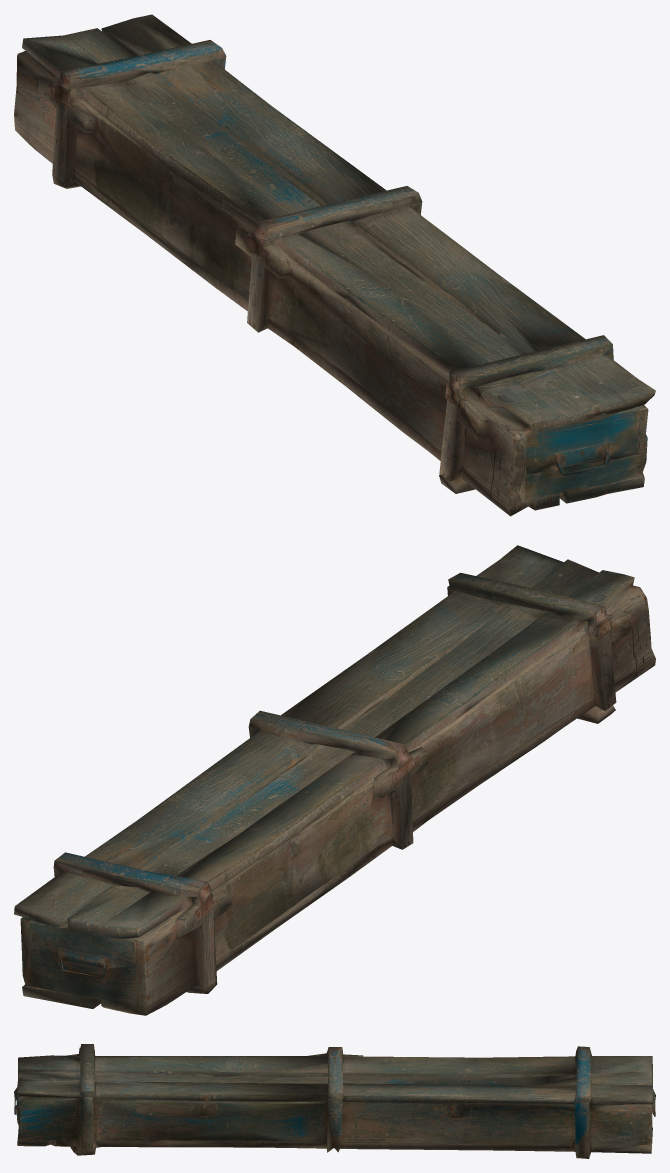
The model's file is SM_Weaponbox_01.fbx.
3 renders of one model, top to bottom at view 1: azimuth 30°, elevation 25°; view 2: azimuth 150°, elevation 25°; view 3: azimuth 270°, elevation 25°, orthographic. The views are drawn at different scales.
Parts seen in each view (by area): view 1: SM_Weaponbox_01; view 2: SM_Weaponbox_01; view 3: SM_Weaponbox_01.
Part boxes in pixels (<box>): SM_Weaponbox_01: <box>14,14,655,516</box>; SM_Weaponbox_01: <box>14,545,655,1015</box>; SM_Weaponbox_01: <box>14,1044,655,1158</box>.
Size of the model in its own units: 39.5 by 24.54 by 200.
